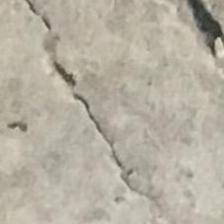Crack: (23, 1, 176, 207), (138, 0, 224, 64)
